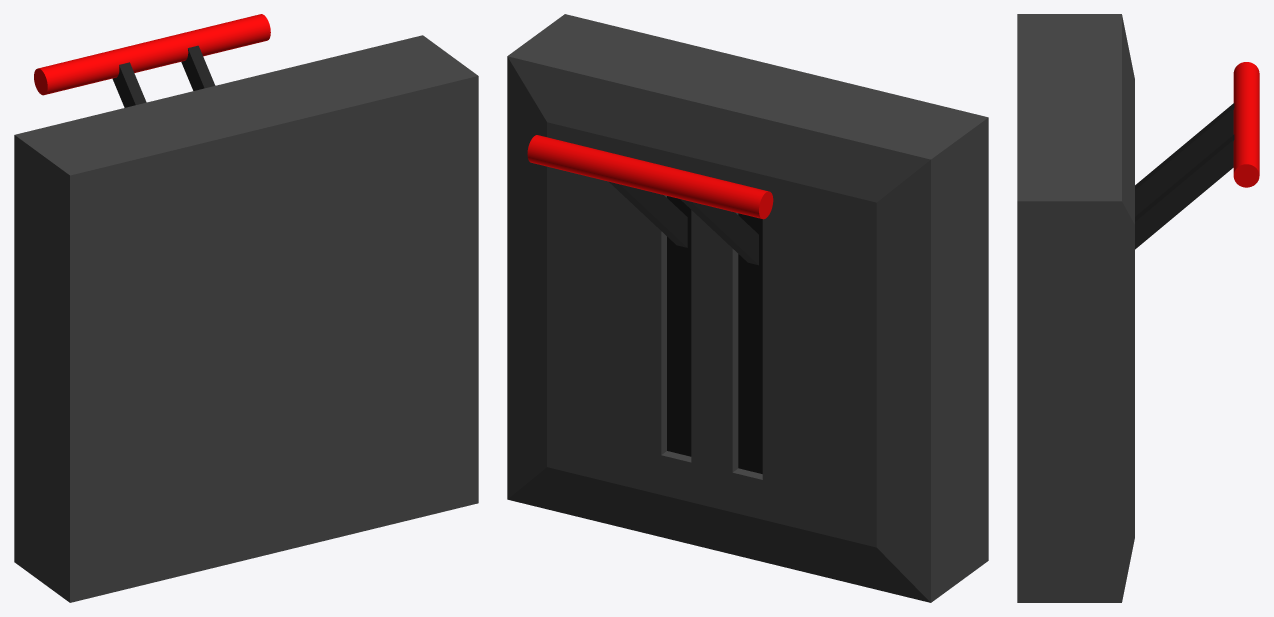
The model's file is Panel.fbx.
The picture shows the model from 3 angles, left to right: view 1: azimuth 30°, elevation 25°; view 2: azimuth 150°, elevation 25°; view 3: azimuth 270°, elevation 25°; orthographic projection. The views are drawn at different scales.
Visible parts, largest first — view 1: Panel, Panel_Lever; view 2: Panel, Panel_Lever; view 3: Panel, Panel_Lever.
Boxes of the visible parts, bbox=[...] form: Panel: bbox=[14, 35, 478, 602]; Panel_Lever: bbox=[34, 14, 270, 107]; Panel: bbox=[507, 14, 988, 602]; Panel_Lever: bbox=[527, 135, 773, 265]; Panel: bbox=[1017, 14, 1134, 602]; Panel_Lever: bbox=[1135, 62, 1259, 249].
Bounding box in the file's own units: 87.97 × 87.97 × 48.05.
